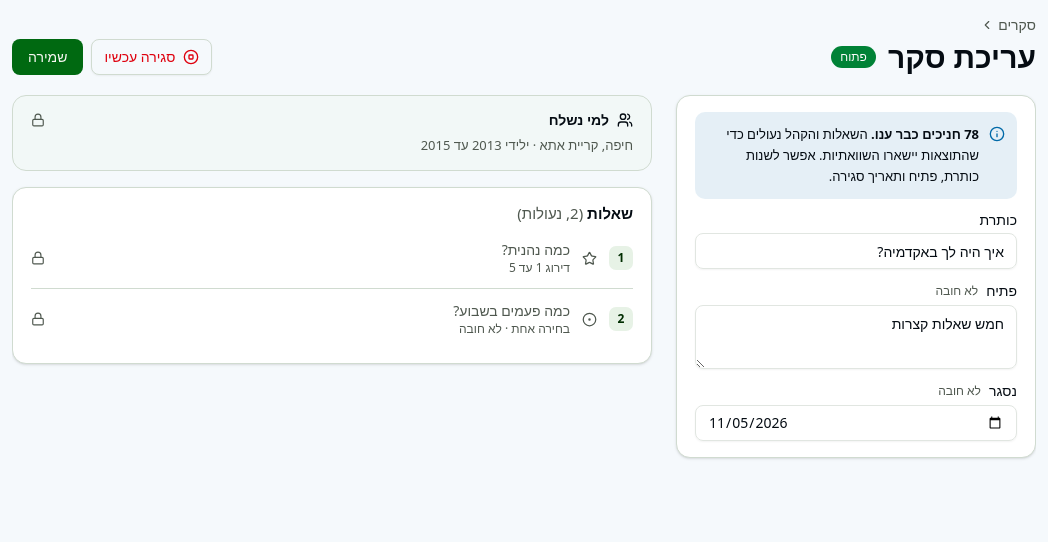
Test case: LockedSurveyEditor: saving the details › a save that throws reads as a failed save
Click the button "שמירה" at point(48, 57), box x1=12 y1=39 x2=83 y2=75
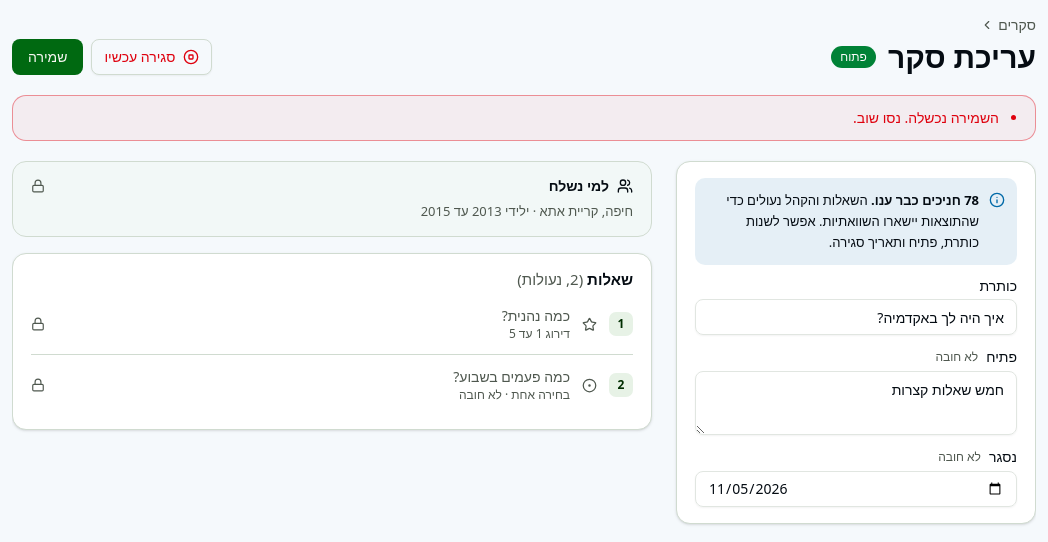
expect the message reads "השמירה נכשלה. נסו שוב.": met, box x1=853 y1=108 x2=999 y2=127
